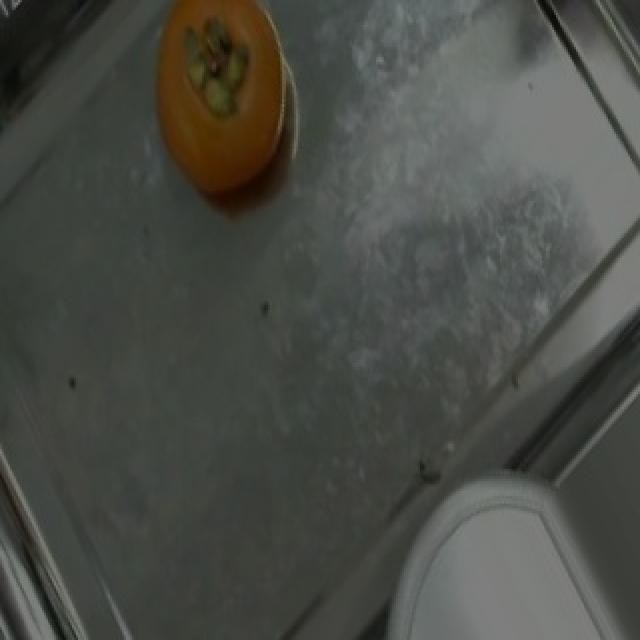Fruit: (126, 0, 314, 221), (396, 479, 624, 640)
